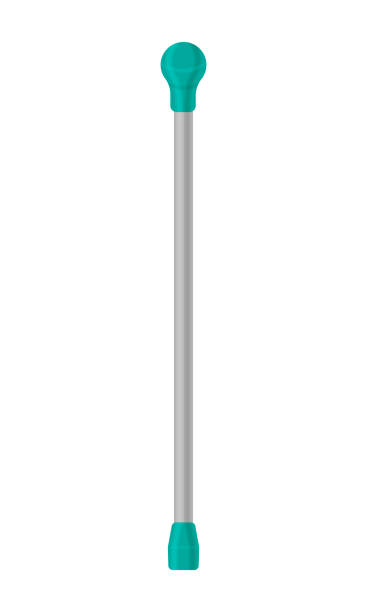light_pole: (154, 41, 210, 573)
